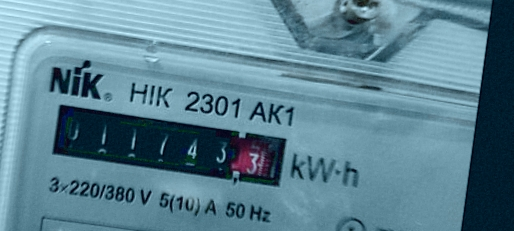0: (65, 114, 83, 144)
1: (125, 122, 141, 152), (97, 118, 110, 146)
3: (213, 137, 231, 166), (243, 150, 260, 177)
4: (184, 133, 201, 162)
7: (154, 126, 173, 156)
screen: (40, 92, 300, 200)
